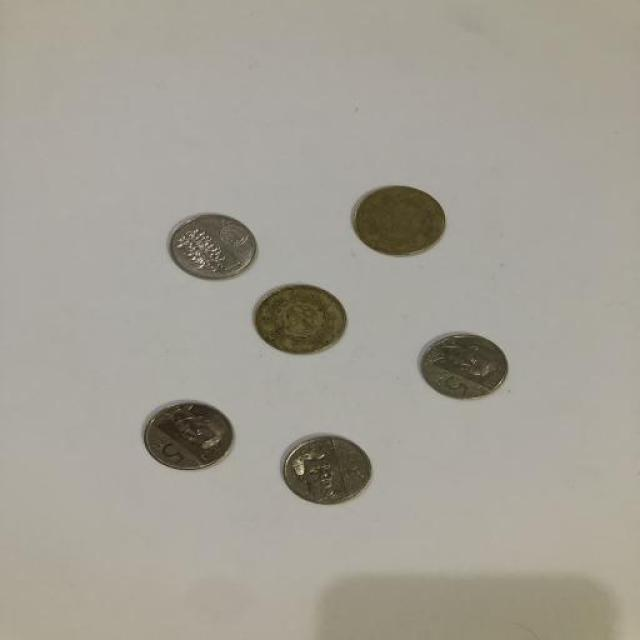5 peso: (166, 208, 259, 283), (417, 330, 511, 401), (141, 399, 232, 472), (280, 433, 372, 505)
5 peso-old: (350, 184, 446, 256), (253, 283, 347, 355)
